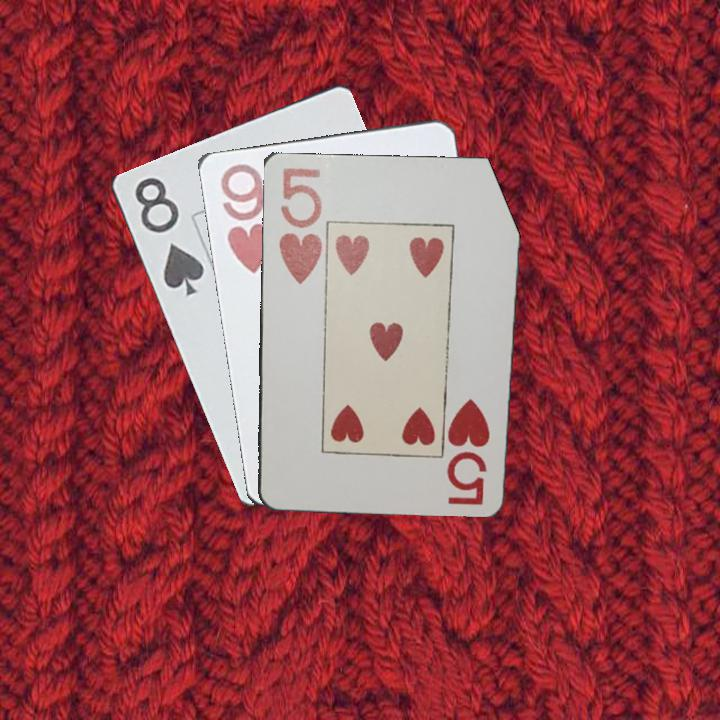5h: (274, 163, 324, 286), (451, 395, 493, 507)
8s: (130, 173, 207, 299)
9h: (216, 159, 273, 276)
